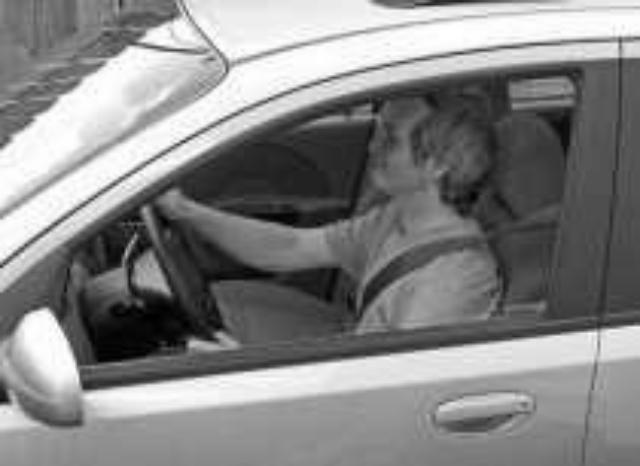Seatbelt: (354, 201, 564, 327)
